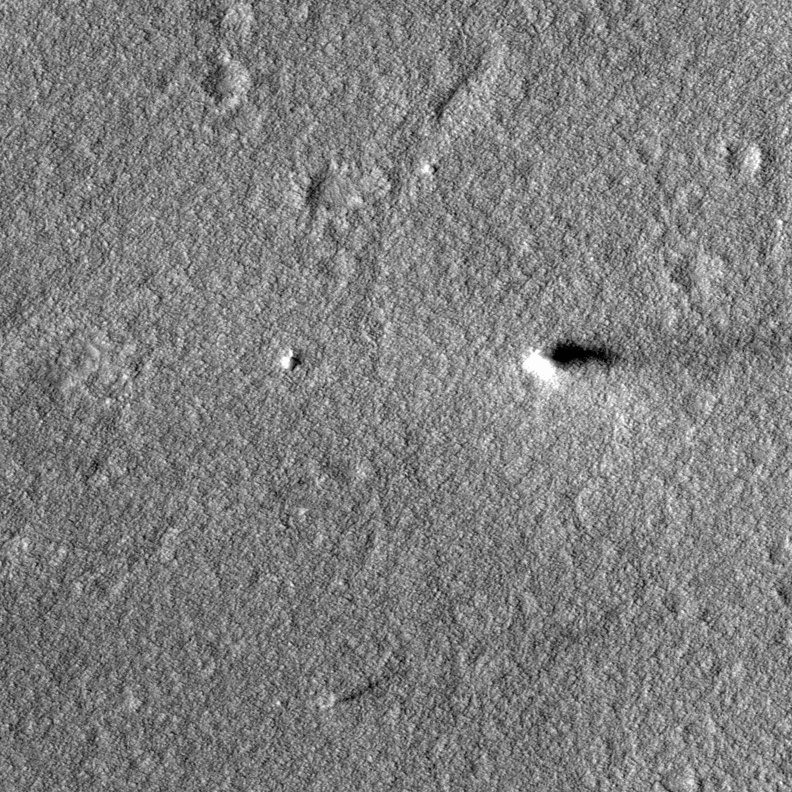dust_devil: (518, 332, 628, 385), (316, 678, 381, 712)
